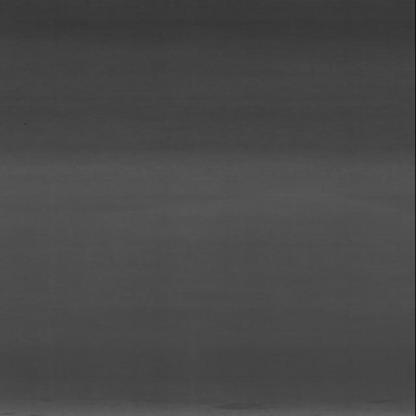inclusion: (20, 122, 32, 127)
